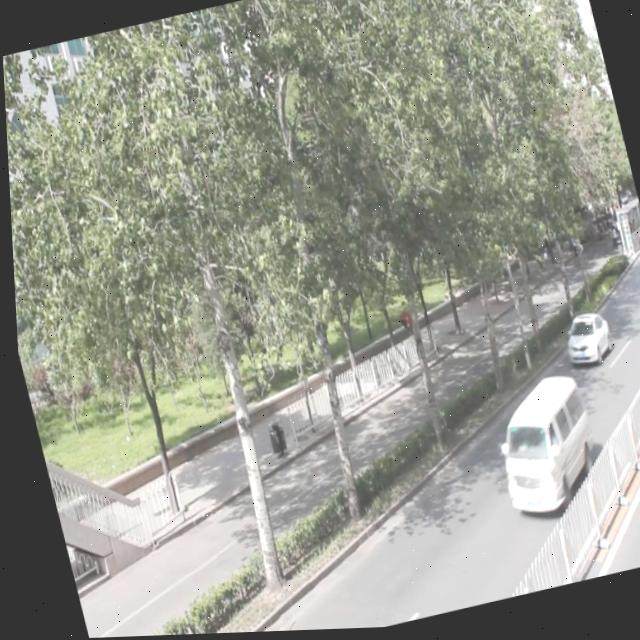car: (556, 311, 610, 374), (630, 286, 640, 335)
truck: (481, 373, 599, 520)
